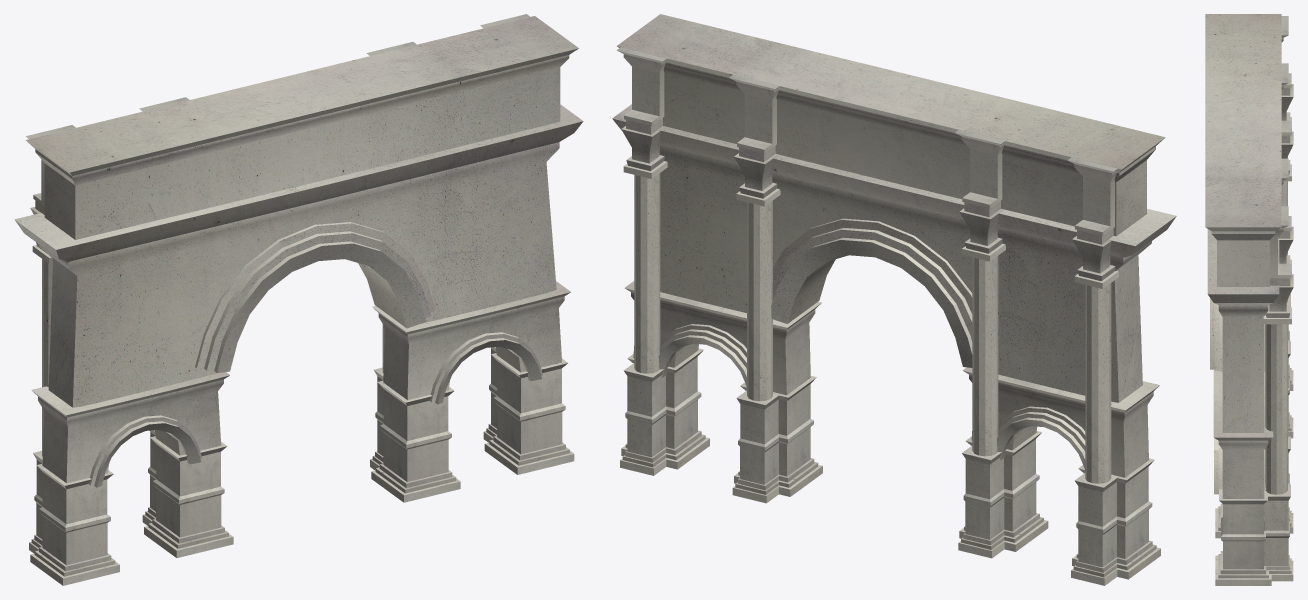
The model's file is olympus_archofcon.fbx.
3 renders of one model, left to right at view 1: azimuth 30°, elevation 25°; view 2: azimuth 150°, elevation 25°; view 3: azimuth 270°, elevation 25°, orthographic. The views are drawn at different scales.
Parts seen in each view (by area): view 1: pCube1; view 2: pCube1; view 3: pCube1.
Part boxes in pixels (x1,y1,x2,y2): pCube1: (14,14,583,585); pCube1: (612,14,1176,585); pCube1: (1205,14,1293,585).
Size of the model in its own units: 9.29 by 7.02 by 1.56.
1 material, 1 textured.
